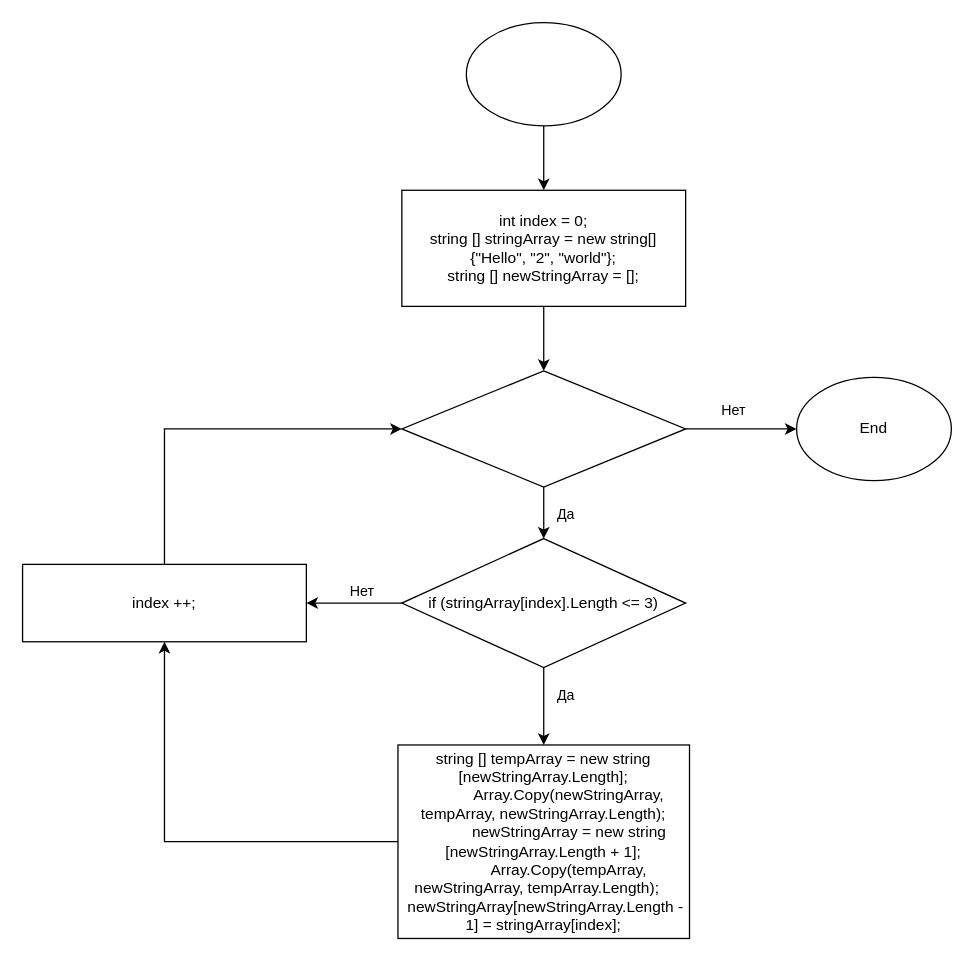
The diagram is 974 pixels wide and 961 high, and some of its shapes have lost their labels. The centre of each missing label's shape, as x and y in pixels:
for(index < stringArray.Length): the point at 543,428
Start: the point at 543,73
